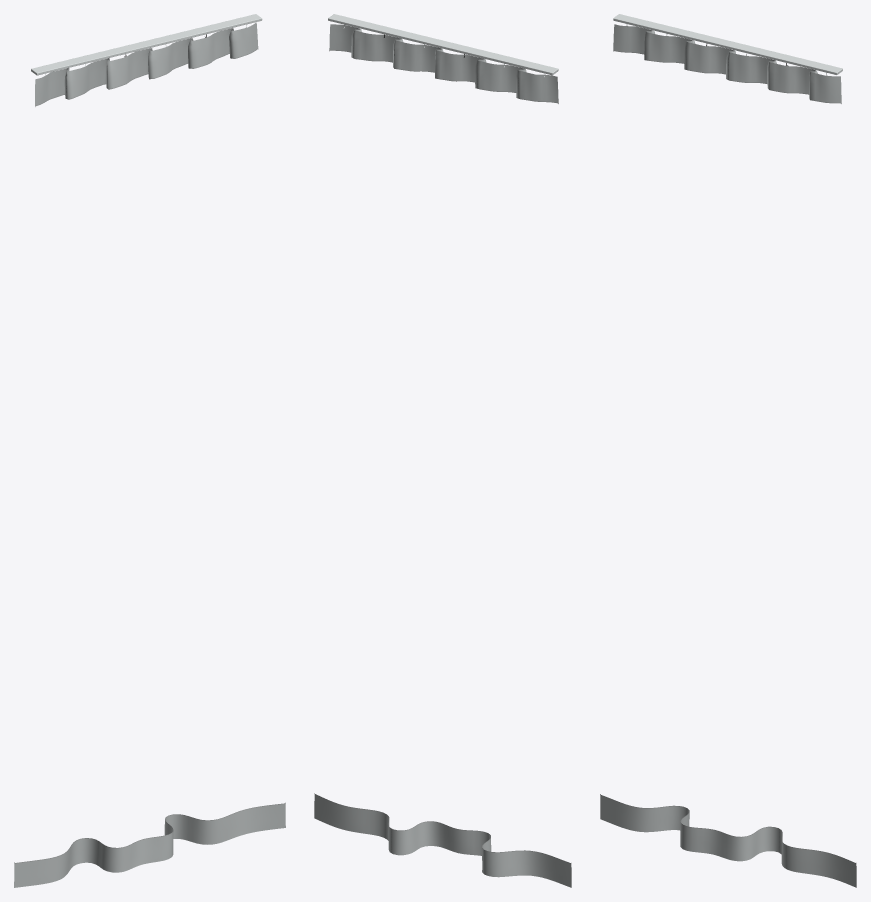
Rendered from curtain_01_02.001.fbx.
3 views of the same model, side by side, from view 1: azimuth 30°, elevation 25°; view 2: azimuth 150°, elevation 25°; view 3: azimuth 330°, elevation 25° (orthographic).
Parts seen in each view (by area): view 1: curtain_01_02.001; view 2: curtain_01_02.001; view 3: curtain_01_02.001.
Boxes of the visible parts, box(x1,y1,x2,y2) form: curtain_01_02.001: box(14, 14, 285, 887); curtain_01_02.001: box(314, 14, 571, 887); curtain_01_02.001: box(600, 14, 856, 887).
Size of the model in its own units: 76.39 by 224 by 10.51.
Materials: 1 (1 with a texture image).
